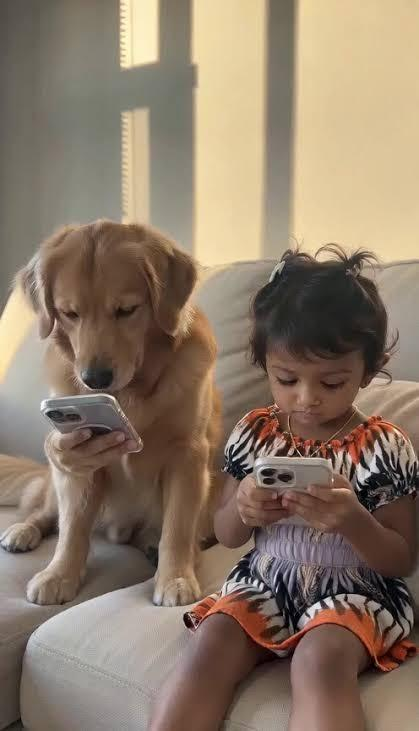adult_dog: (2, 222, 222, 608)
non-dog: (143, 242, 419, 731)
